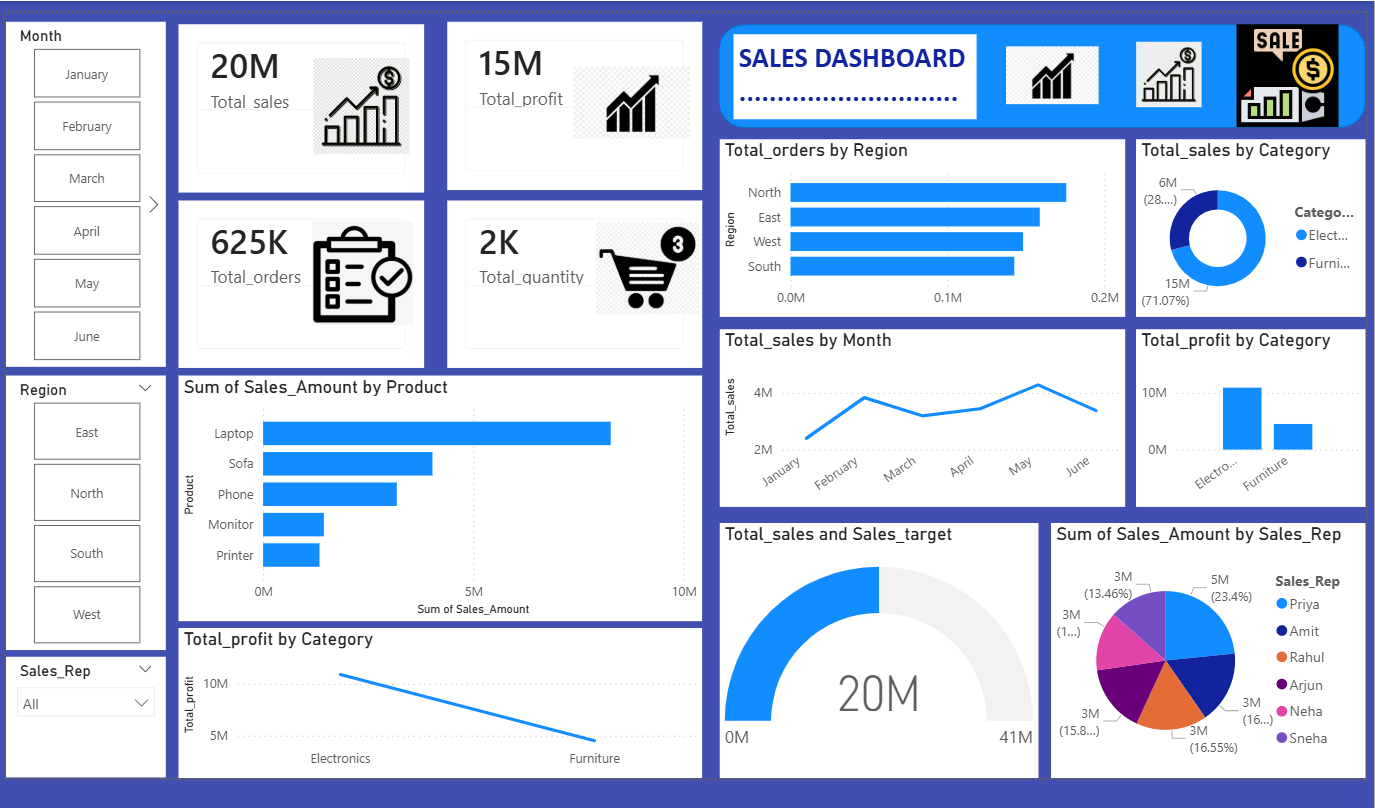

The page's visual inventory and layout, read from the dashboard file:
{"tool":"powerbi","page":{"name":"Page 1","canvas":[1280,720],"ordinal":0},"visuals":[{"type":"cardVisual","fields":{"Data":["sales dataset.Total_sales"]},"box":[162.8,10.5,231.2,158.8],"z":0,"group":"g1"},{"type":"cardVisual","fields":{"Data":["sales dataset.Total_orders"]},"box":[162.5,176.2,231.2,157.5],"z":0,"group":"g4"},{"type":"lineChart","fields":{"Category":["sales dataset.Order_Date.Variation.Date Hierarchy.Month"],"Y":["sales dataset.Total_sales"]},"box":[671.2,297.5,381.2,167.5],"z":0},{"type":"cardVisual","fields":{"Data":["sales dataset.Total_profit"]},"box":[415,8.7,240,158.8],"z":1000,"group":"g2"},{"type":"barChart","fields":{"Category":["sales dataset.Region"],"Y":["sales dataset.Total_orders"]},"box":[671.2,118.8,381.2,167.5],"z":1000},{"type":"cardVisual","fields":{"Data":["sales dataset.Total_quantity"]},"box":[415.1,176.7,240,157.5],"z":1000,"group":"g3"},{"type":"clusteredBarChart","fields":{"Category":["sales dataset.Product"],"Y":["Sum(sales dataset.Sales_Amount)"]},"box":[162.5,341.2,492.5,231.2],"z":2000},{"type":"donutChart","fields":{"Category":["sales dataset.Category"],"Y":["sales dataset.Total_sales"]},"box":[1063.8,118.8,216.2,167.5],"z":3000},{"type":"clusteredColumnChart","fields":{"Category":["sales dataset.Category"],"Y":["sales dataset.Total_profit"]},"box":[1063.8,297.5,216.2,167.5],"z":4000},{"type":"lineChart","fields":{"Category":["sales dataset.Category"],"Y":["sales dataset.Total_profit"]},"box":[162.5,578.8,492.5,141.2],"z":5000},{"type":"slicer","fields":{"Values":["sales dataset.Order_Date.Variation.Date Hierarchy.Month"]},"box":[0,8.8,150,325],"z":6000},{"type":"slicer","fields":{"Values":["sales dataset.Region"]},"box":[0,341.2,150,258.8],"z":7000},{"type":"slicer","fields":{"Values":["sales dataset.Sales_Rep"]},"box":[0,606.2,150,113.8],"z":8000},{"type":"gauge","fields":{"TargetValue":["sales dataset.Sales_target"],"Y":["sales dataset.Total_sales"]},"box":[671.2,480,300,240],"z":9000},{"type":"pieChart","fields":{"Category":["sales dataset.Sales_Rep"],"Y":["Sum(sales dataset.Sales_Amount)"]},"box":[983.8,480,296.2,240],"z":10000},{"type":"group","id":"g1","title":"Group 1","box":[162.8,10.5,231.2,158.8],"z":11000},{"type":"group","id":"g2","title":"Group 2","box":[415,0,240,168.6],"z":12000},{"type":"group","id":"g3","title":"Group 3","box":[415.1,176.7,239.5,157],"z":13000},{"type":"group","id":"g4","title":"Group 4","box":[162.5,176.2,231.2,157.5],"z":14000},{"type":"image","box":[555.7,188.8,96.5,103.5],"z":14001,"group":"g3"},{"type":"image","box":[288.7,186.4,95.3,115.1],"z":14003,"group":"g4"},{"type":"shape","box":[670.9,10.5,609.3,97.7],"z":15000},{"type":"image","box":[289.8,37.9,90.7,100],"z":15000,"group":"g1"},{"type":"image","box":[533.6,0,109.3,168.6],"z":15002,"group":"g2"},{"type":"textbox","box":[684.9,19.8,229.1,80.2],"z":16000},{"type":"image","box":[1131.4,10.5,148.8,96.5],"z":16001},{"type":"image","box":[940.7,10.5,87.2,96.5],"z":16002},{"type":"image","box":[1036,26.7,116.3,61.6],"z":16003}]}

Visuals, with their boxes in screenshot pixels (x1, y1, x2, y2):
cardVisual - sales dataset.Total_sales: locate(176, 22, 421, 190)
cardVisual - sales dataset.Total_orders: locate(176, 197, 421, 364)
lineChart - sales dataset.Order_Date.Variation.Date Hierarchy.Month x sales dataset.Total_sales: locate(715, 326, 1118, 503)
cardVisual - sales dataset.Total_profit: locate(443, 20, 697, 188)
barChart - sales dataset.Region x sales dataset.Total_orders: locate(715, 137, 1118, 314)
cardVisual - sales dataset.Total_quantity: locate(443, 198, 698, 365)
clusteredBarChart - sales dataset.Product x Sum(sales dataset.Sales_Amount): locate(176, 372, 697, 617)
donutChart - sales dataset.Category x sales dataset.Total_sales: locate(1131, 137, 1360, 314)
clusteredColumnChart - sales dataset.Category x sales dataset.Total_profit: locate(1131, 326, 1360, 503)
lineChart - sales dataset.Category x sales dataset.Total_profit: locate(176, 624, 697, 773)
slicer - sales dataset.Order_Date.Variation.Date Hierarchy.Month: locate(4, 20, 162, 364)
slicer - sales dataset.Region: locate(4, 372, 162, 646)
slicer - sales dataset.Sales_Rep: locate(4, 653, 162, 773)
gauge - sales dataset.Sales_target x sales dataset.Total_sales: locate(715, 519, 1032, 773)
pieChart - sales dataset.Sales_Rep x Sum(sales dataset.Sales_Amount): locate(1046, 519, 1360, 773)
"Group 1" group: locate(176, 22, 421, 190)
"Group 2" group: locate(443, 11, 697, 189)
"Group 3" group: locate(443, 198, 697, 364)
"Group 4" group: locate(176, 197, 421, 364)
image: locate(592, 211, 695, 320)
image: locate(309, 208, 410, 330)
shape: locate(714, 22, 1360, 125)
image: locate(311, 51, 407, 157)
image: locate(569, 11, 685, 189)
textbox: locate(729, 32, 972, 117)
image: locate(1202, 22, 1360, 124)
image: locate(1000, 22, 1093, 124)
image: locate(1101, 39, 1224, 104)
